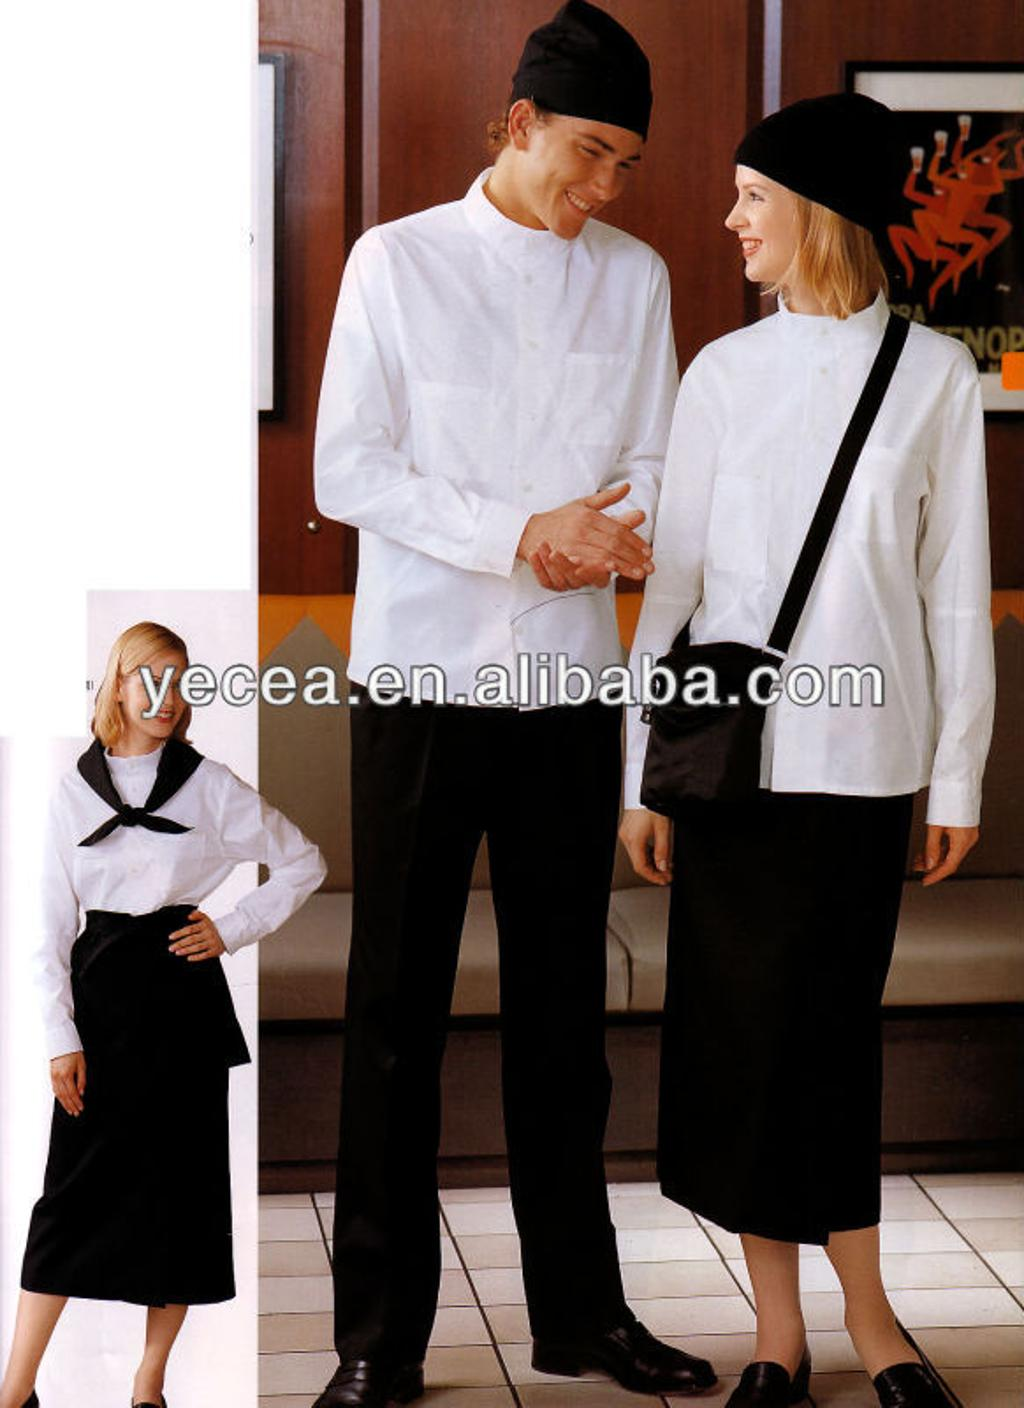face: (531, 91, 633, 242), (721, 143, 809, 283), (127, 658, 188, 735)
